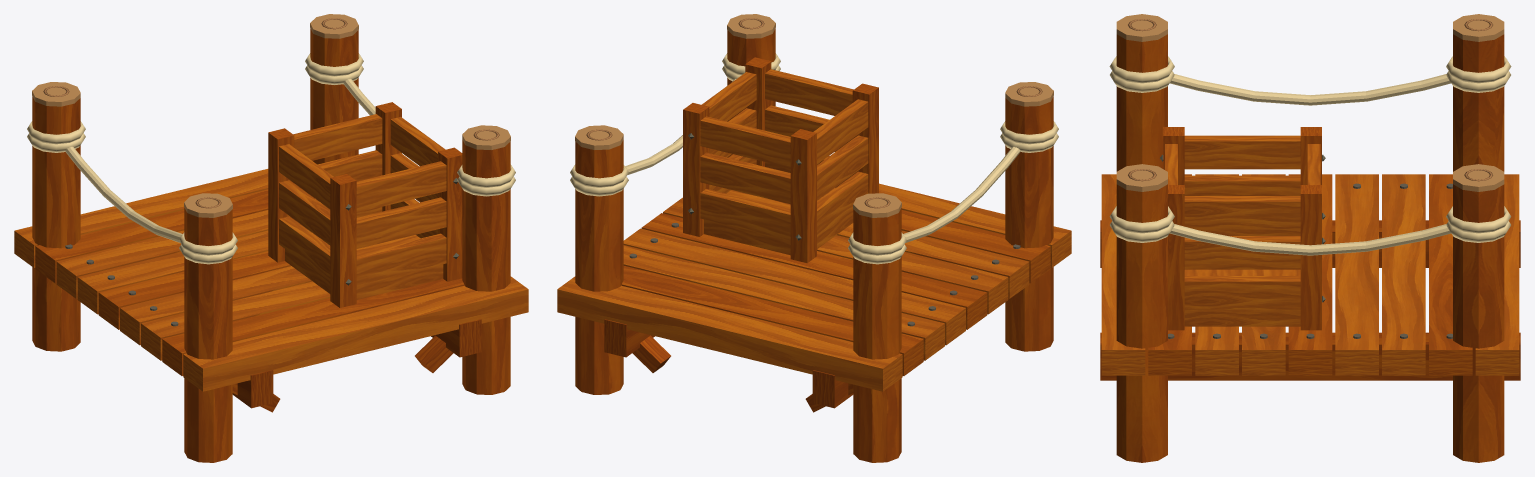
The model's file is dock-simple.gltf.
3 views of the same model, side by side, from view 1: azimuth 30°, elevation 25°; view 2: azimuth 150°, elevation 25°; view 3: azimuth 270°, elevation 25° (orthographic). The views are drawn at different scales.
Parts seen in each view (by area): view 1: dock-simple; view 2: dock-simple; view 3: dock-simple.
Boxes of the visible parts, bbox=[...] form: dock-simple: bbox=[14, 14, 528, 462]; dock-simple: bbox=[557, 14, 1071, 462]; dock-simple: bbox=[1100, 14, 1520, 462].
Bounding box in the file's own units: 1.8 × 1.31 × 1.8.
2 materials, 1 textured.
